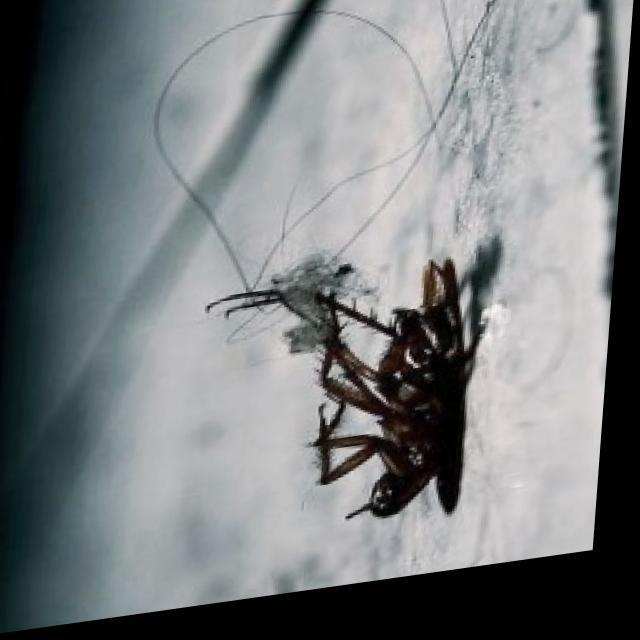cockroach: (290, 174, 492, 515)
